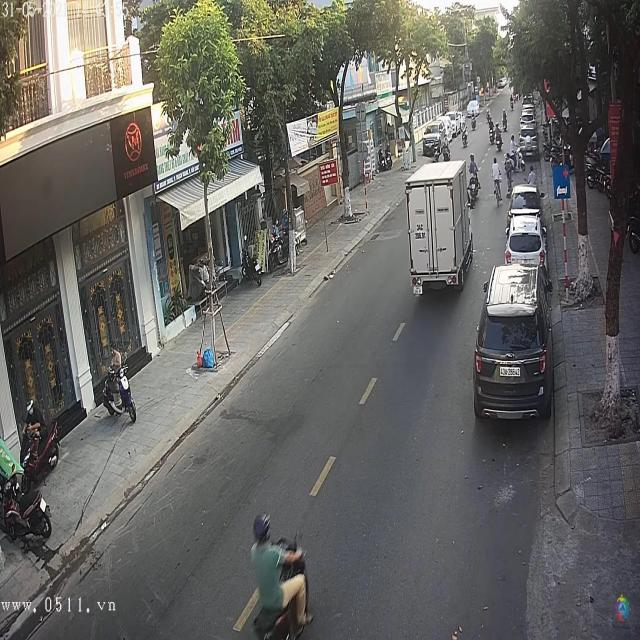car: (474, 260, 554, 418), (503, 225, 545, 265), (507, 189, 545, 231)
truck: (404, 162, 474, 295)
